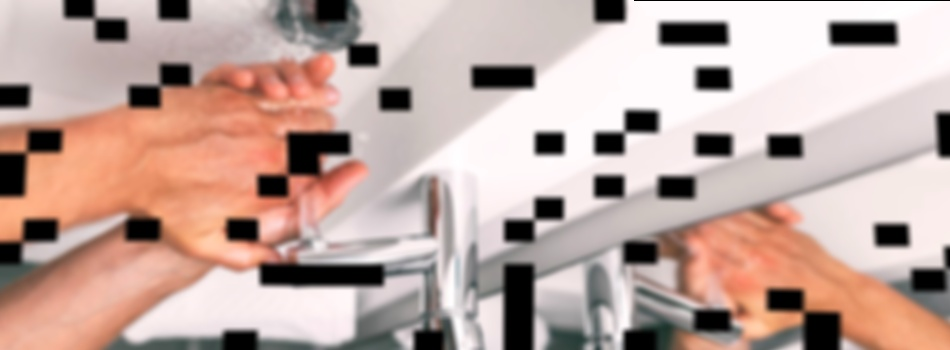washing hand: (177, 2, 396, 323)
